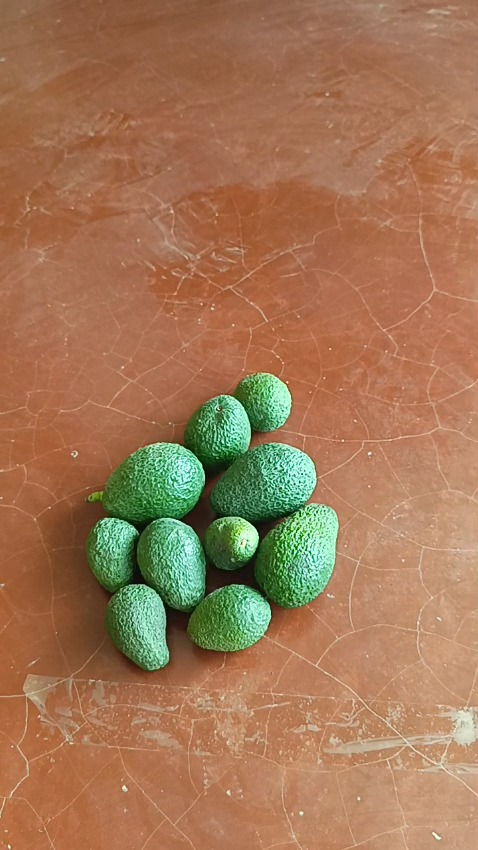Primera: (253, 504, 339, 607), (209, 442, 316, 522), (102, 442, 206, 524)
Segunda: (136, 516, 208, 610)
Tercera: (104, 583, 171, 670), (187, 584, 271, 651), (182, 394, 252, 471), (84, 516, 141, 594), (233, 373, 291, 431), (202, 514, 260, 571)
